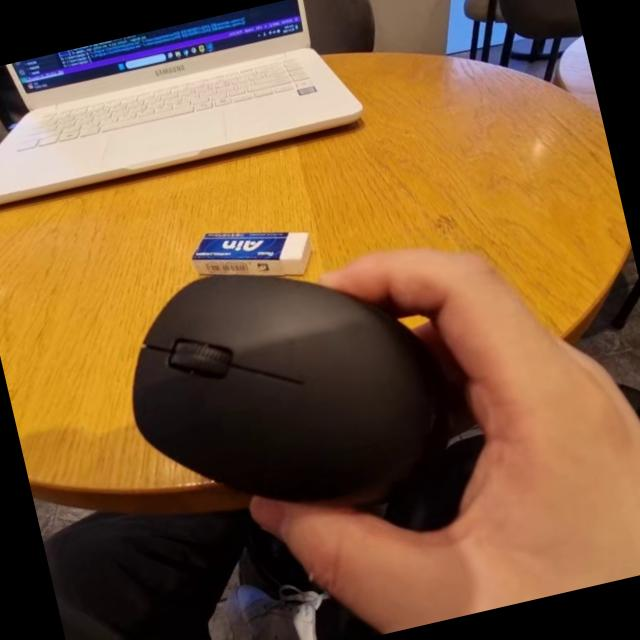eraser: (178, 202, 340, 298)
grab_mouse: (98, 206, 640, 640)
mouse: (100, 220, 492, 566)
